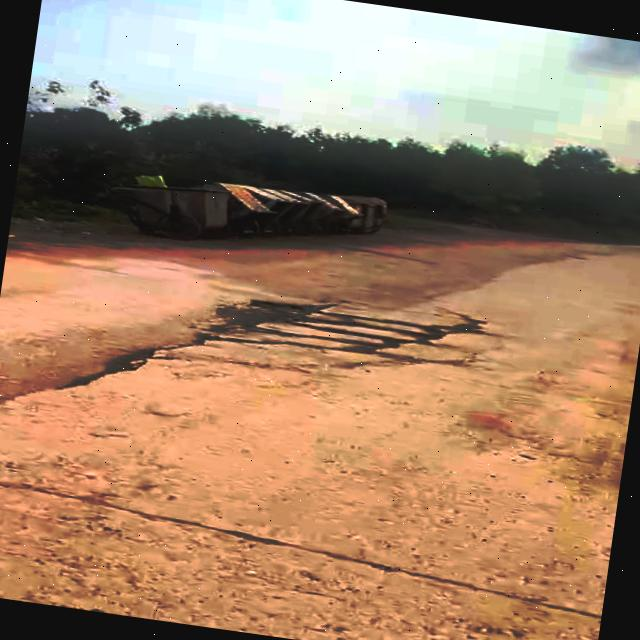pothole: (198, 276, 495, 384)
